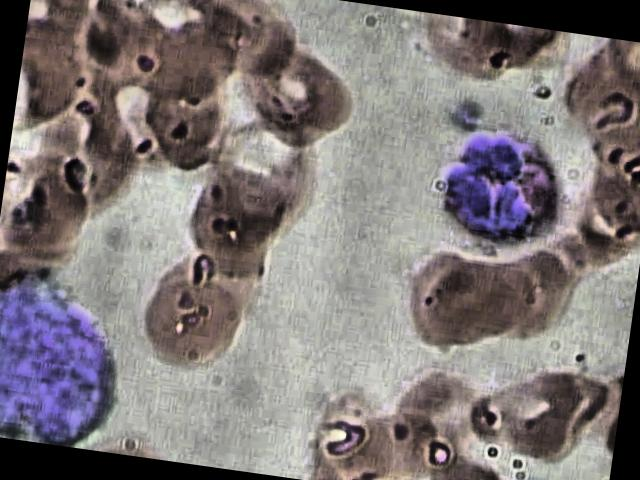Platelets: (446, 93, 484, 136), (509, 470, 548, 480)
RBC: (20, 85, 150, 219), (472, 230, 610, 346), (377, 356, 516, 471), (415, 238, 554, 353), (128, 261, 267, 376), (164, 154, 303, 269), (232, 33, 371, 148), (468, 354, 608, 468), (138, 59, 246, 175), (13, 7, 105, 134), (559, 34, 640, 149), (566, 132, 640, 245)
WBC: (0, 259, 135, 453), (424, 122, 580, 262)
